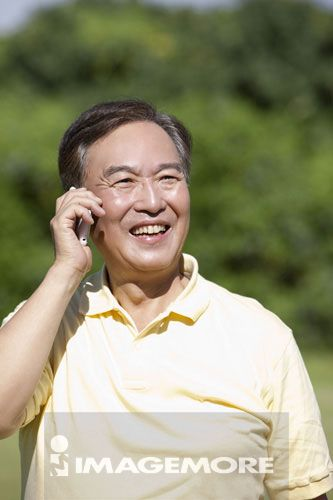talk: (49, 159, 189, 279)
